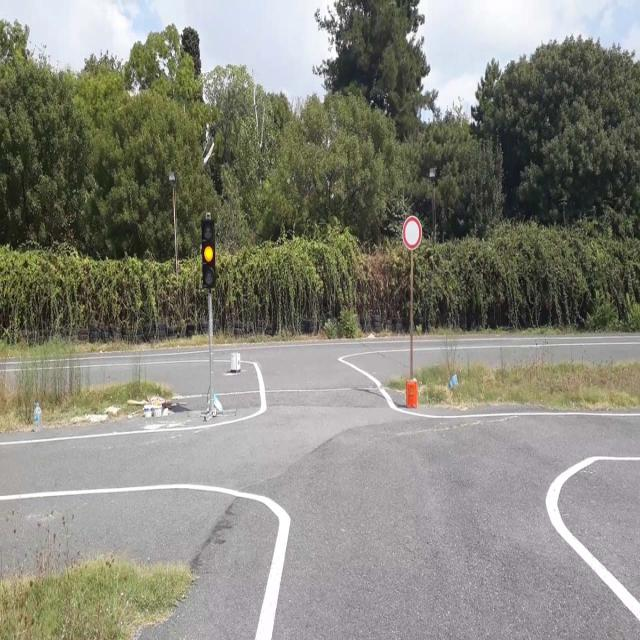sari: (201, 220, 215, 287)
